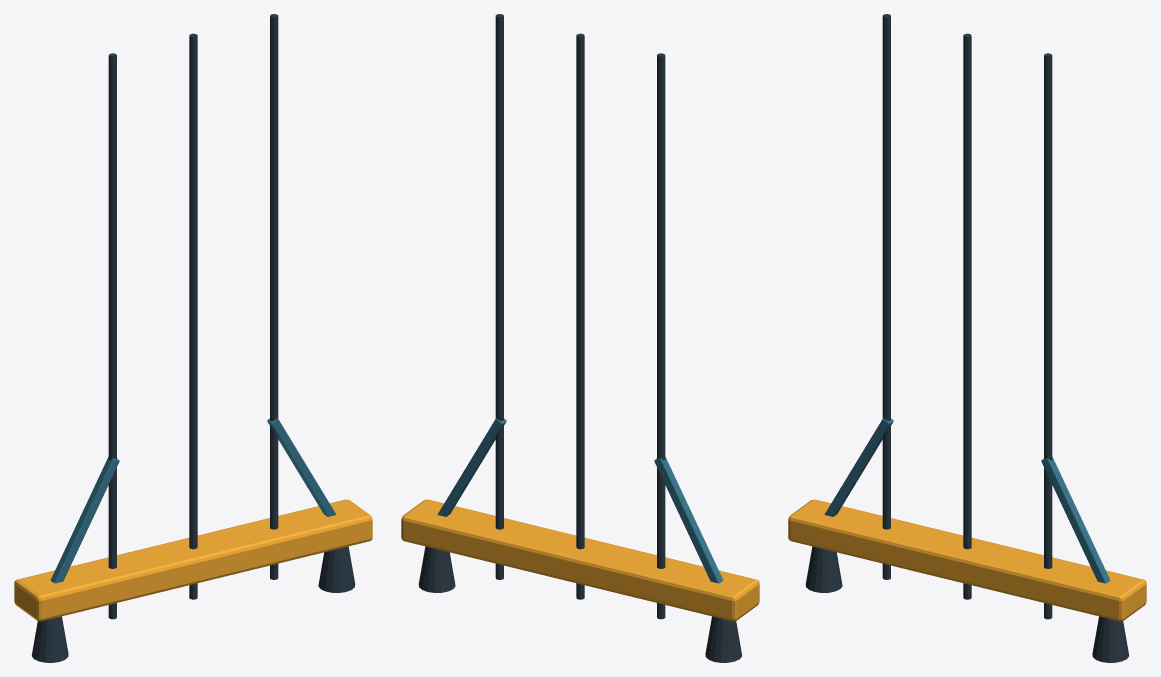
File: gantry-hoist-medium.glb
3 renders of one model, left to right at view 1: azimuth 30°, elevation 25°; view 2: azimuth 150°, elevation 25°; view 3: azimuth 330°, elevation 25°, orthographic.
Parts seen in each view (by area): view 1: lifting_beam, hoist_cable.001, hoist_cable.002, hoist_cable, beam_sling, lifting_hook, lifting_hook.001, beam_sling.001; view 2: lifting_beam, hoist_cable.001, hoist_cable.002, hoist_cable, beam_sling, lifting_hook, lifting_hook.001, beam_sling.001; view 3: lifting_beam, hoist_cable.001, hoist_cable, hoist_cable.002, beam_sling.001, lifting_hook.001, lifting_hook, beam_sling.
Boxes of the visible parts, x1,y1,x2,y2 form: lifting_beam: [14, 499, 372, 621]; hoist_cable.001: [189, 33, 197, 599]; hoist_cable.002: [270, 14, 278, 579]; hoist_cable: [108, 53, 116, 619]; beam_sling: [50, 457, 119, 583]; lifting_hook: [31, 616, 68, 662]; lifting_hook.001: [318, 546, 355, 592]; beam_sling.001: [267, 418, 336, 516]; lifting_beam: [401, 499, 759, 621]; hoist_cable.001: [576, 33, 584, 599]; hoist_cable.002: [495, 14, 503, 579]; hoist_cable: [657, 53, 665, 619]; beam_sling: [654, 457, 723, 583]; lifting_hook: [705, 616, 742, 662]; lifting_hook.001: [418, 546, 455, 592]; beam_sling.001: [437, 418, 506, 516]; lifting_beam: [788, 499, 1146, 621]; hoist_cable.001: [963, 33, 971, 599]; hoist_cable: [882, 14, 890, 579]; hoist_cable.002: [1044, 53, 1052, 619]; beam_sling.001: [1041, 457, 1110, 583]; lifting_hook.001: [1092, 616, 1129, 662]; lifting_hook: [805, 546, 842, 592]; beam_sling: [824, 418, 893, 516].
Bounding box in the file's own units: 7.5 × 12.47 × 1.
